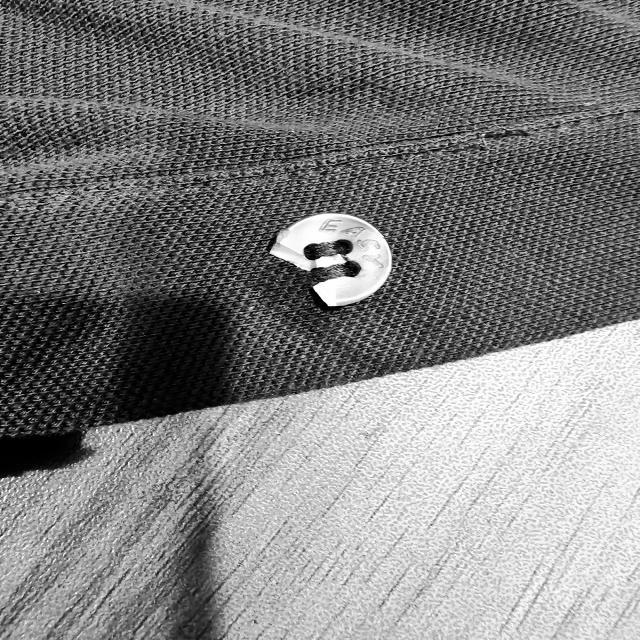Broken_button: (262, 204, 398, 318)
